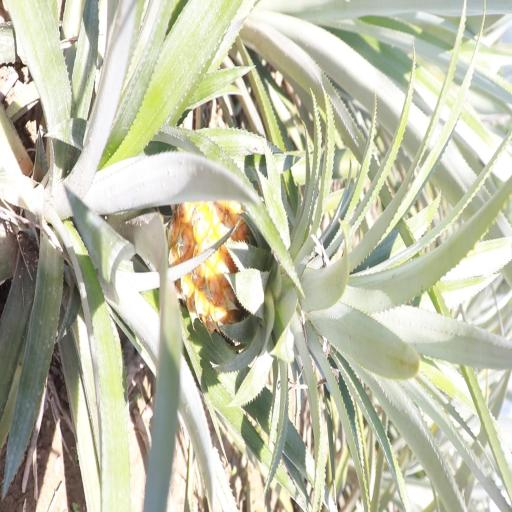Pineapple - v8 v1: (173, 196, 422, 377)
